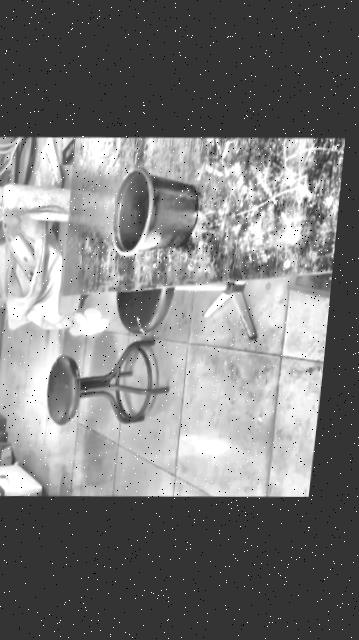pot: (107, 167, 201, 256)
